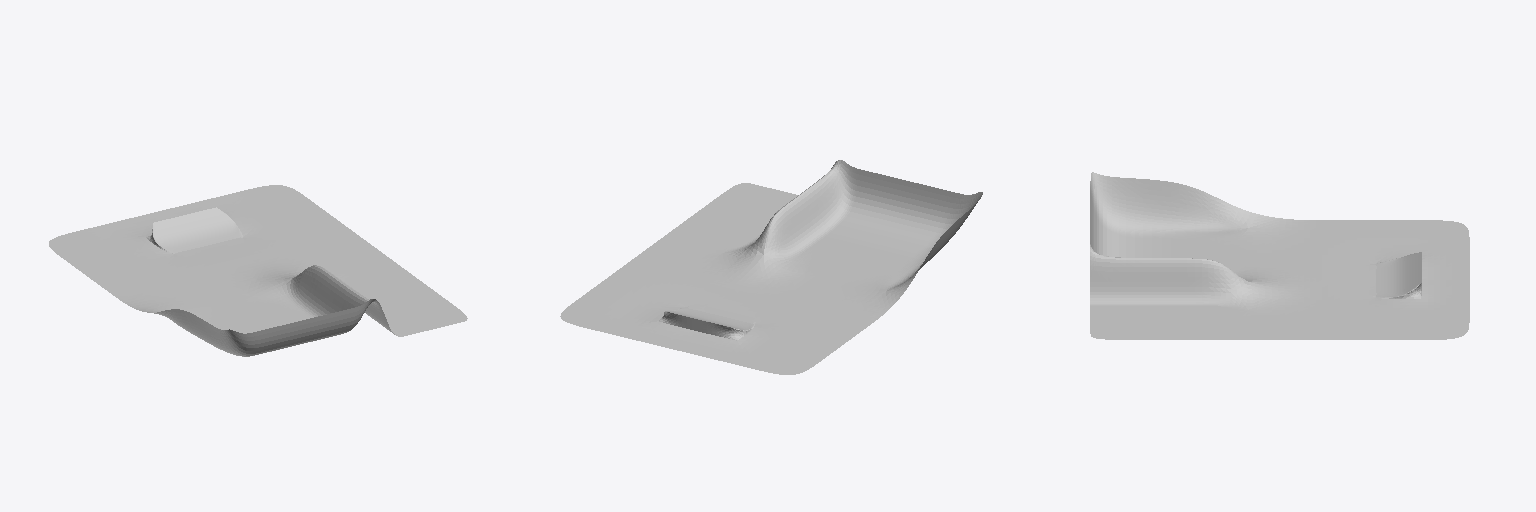
The model's file is jump.obj.
The picture shows the model from 3 angles: view 1: azimuth 30°, elevation 25°; view 2: azimuth 150°, elevation 25°; view 3: azimuth 270°, elevation 25°; orthographic projection.
Visible parts, largest first — view 1: Plane; view 2: Plane; view 3: Plane.
Boxes of the visible parts, <box> form: Plane: <box>49,185,467,356</box>; Plane: <box>560,160,982,374</box>; Plane: <box>1090,172,1469,339</box>.
Size of the model in its own units: 136 by 26.25 by 182.